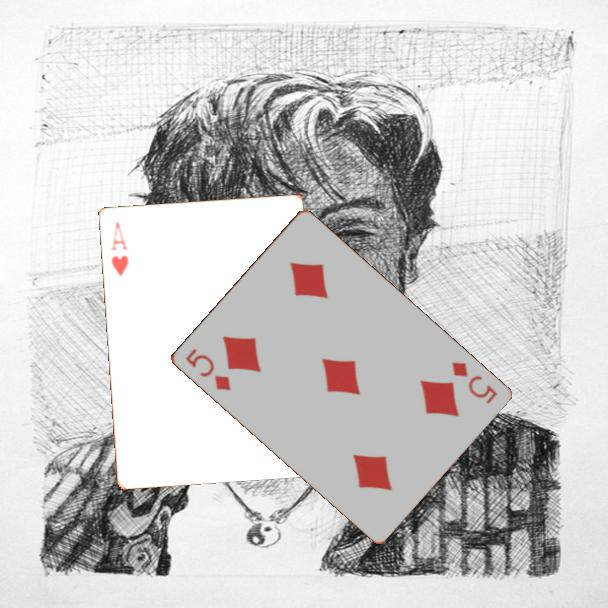d05: (447, 358, 500, 407), (181, 345, 233, 394)
h01: (107, 218, 131, 279)
